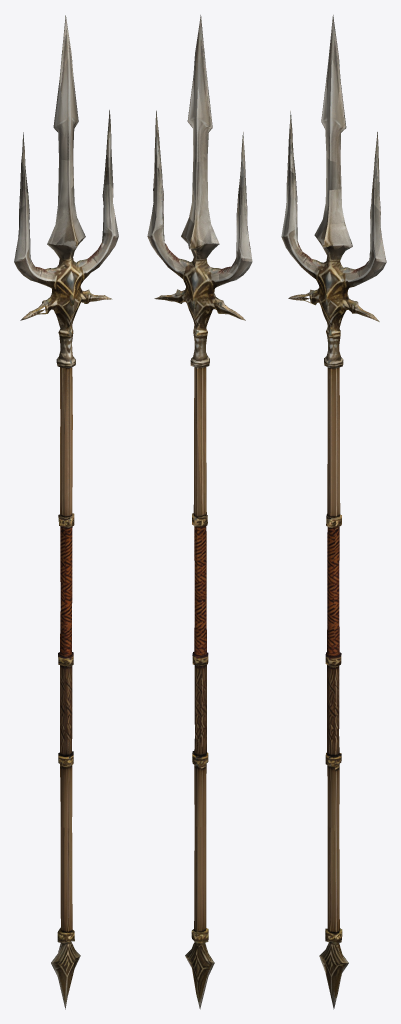
Rendered from three_pronged_ranseur.glb.
3 renders of one model, left to right at view 1: azimuth 30°, elevation 25°; view 2: azimuth 150°, elevation 25°; view 3: azimuth 330°, elevation 25°, orthographic.
Parts seen in each view (by area): view 1: Three Pronged Ranseur; view 2: Three Pronged Ranseur; view 3: Three Pronged Ranseur.
Part boxes in pixels (bbox=[...]): Three Pronged Ranseur: bbox=[14, 15, 118, 1009]; Three Pronged Ranseur: bbox=[147, 15, 252, 1009]; Three Pronged Ranseur: bbox=[281, 15, 386, 1009].
Bounding box in the file's own units: 0.2229 × 2.02 × 0.0789.
Materials: 1 (1 with a texture image).
